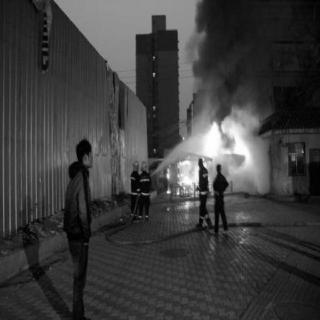Fire: (158, 111, 254, 197)
Smoke: (187, 2, 319, 112)
